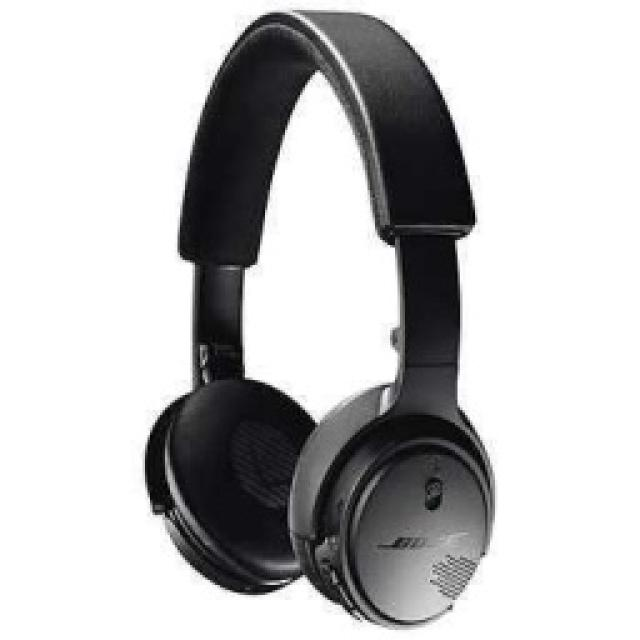headphones: (142, 5, 498, 627)
